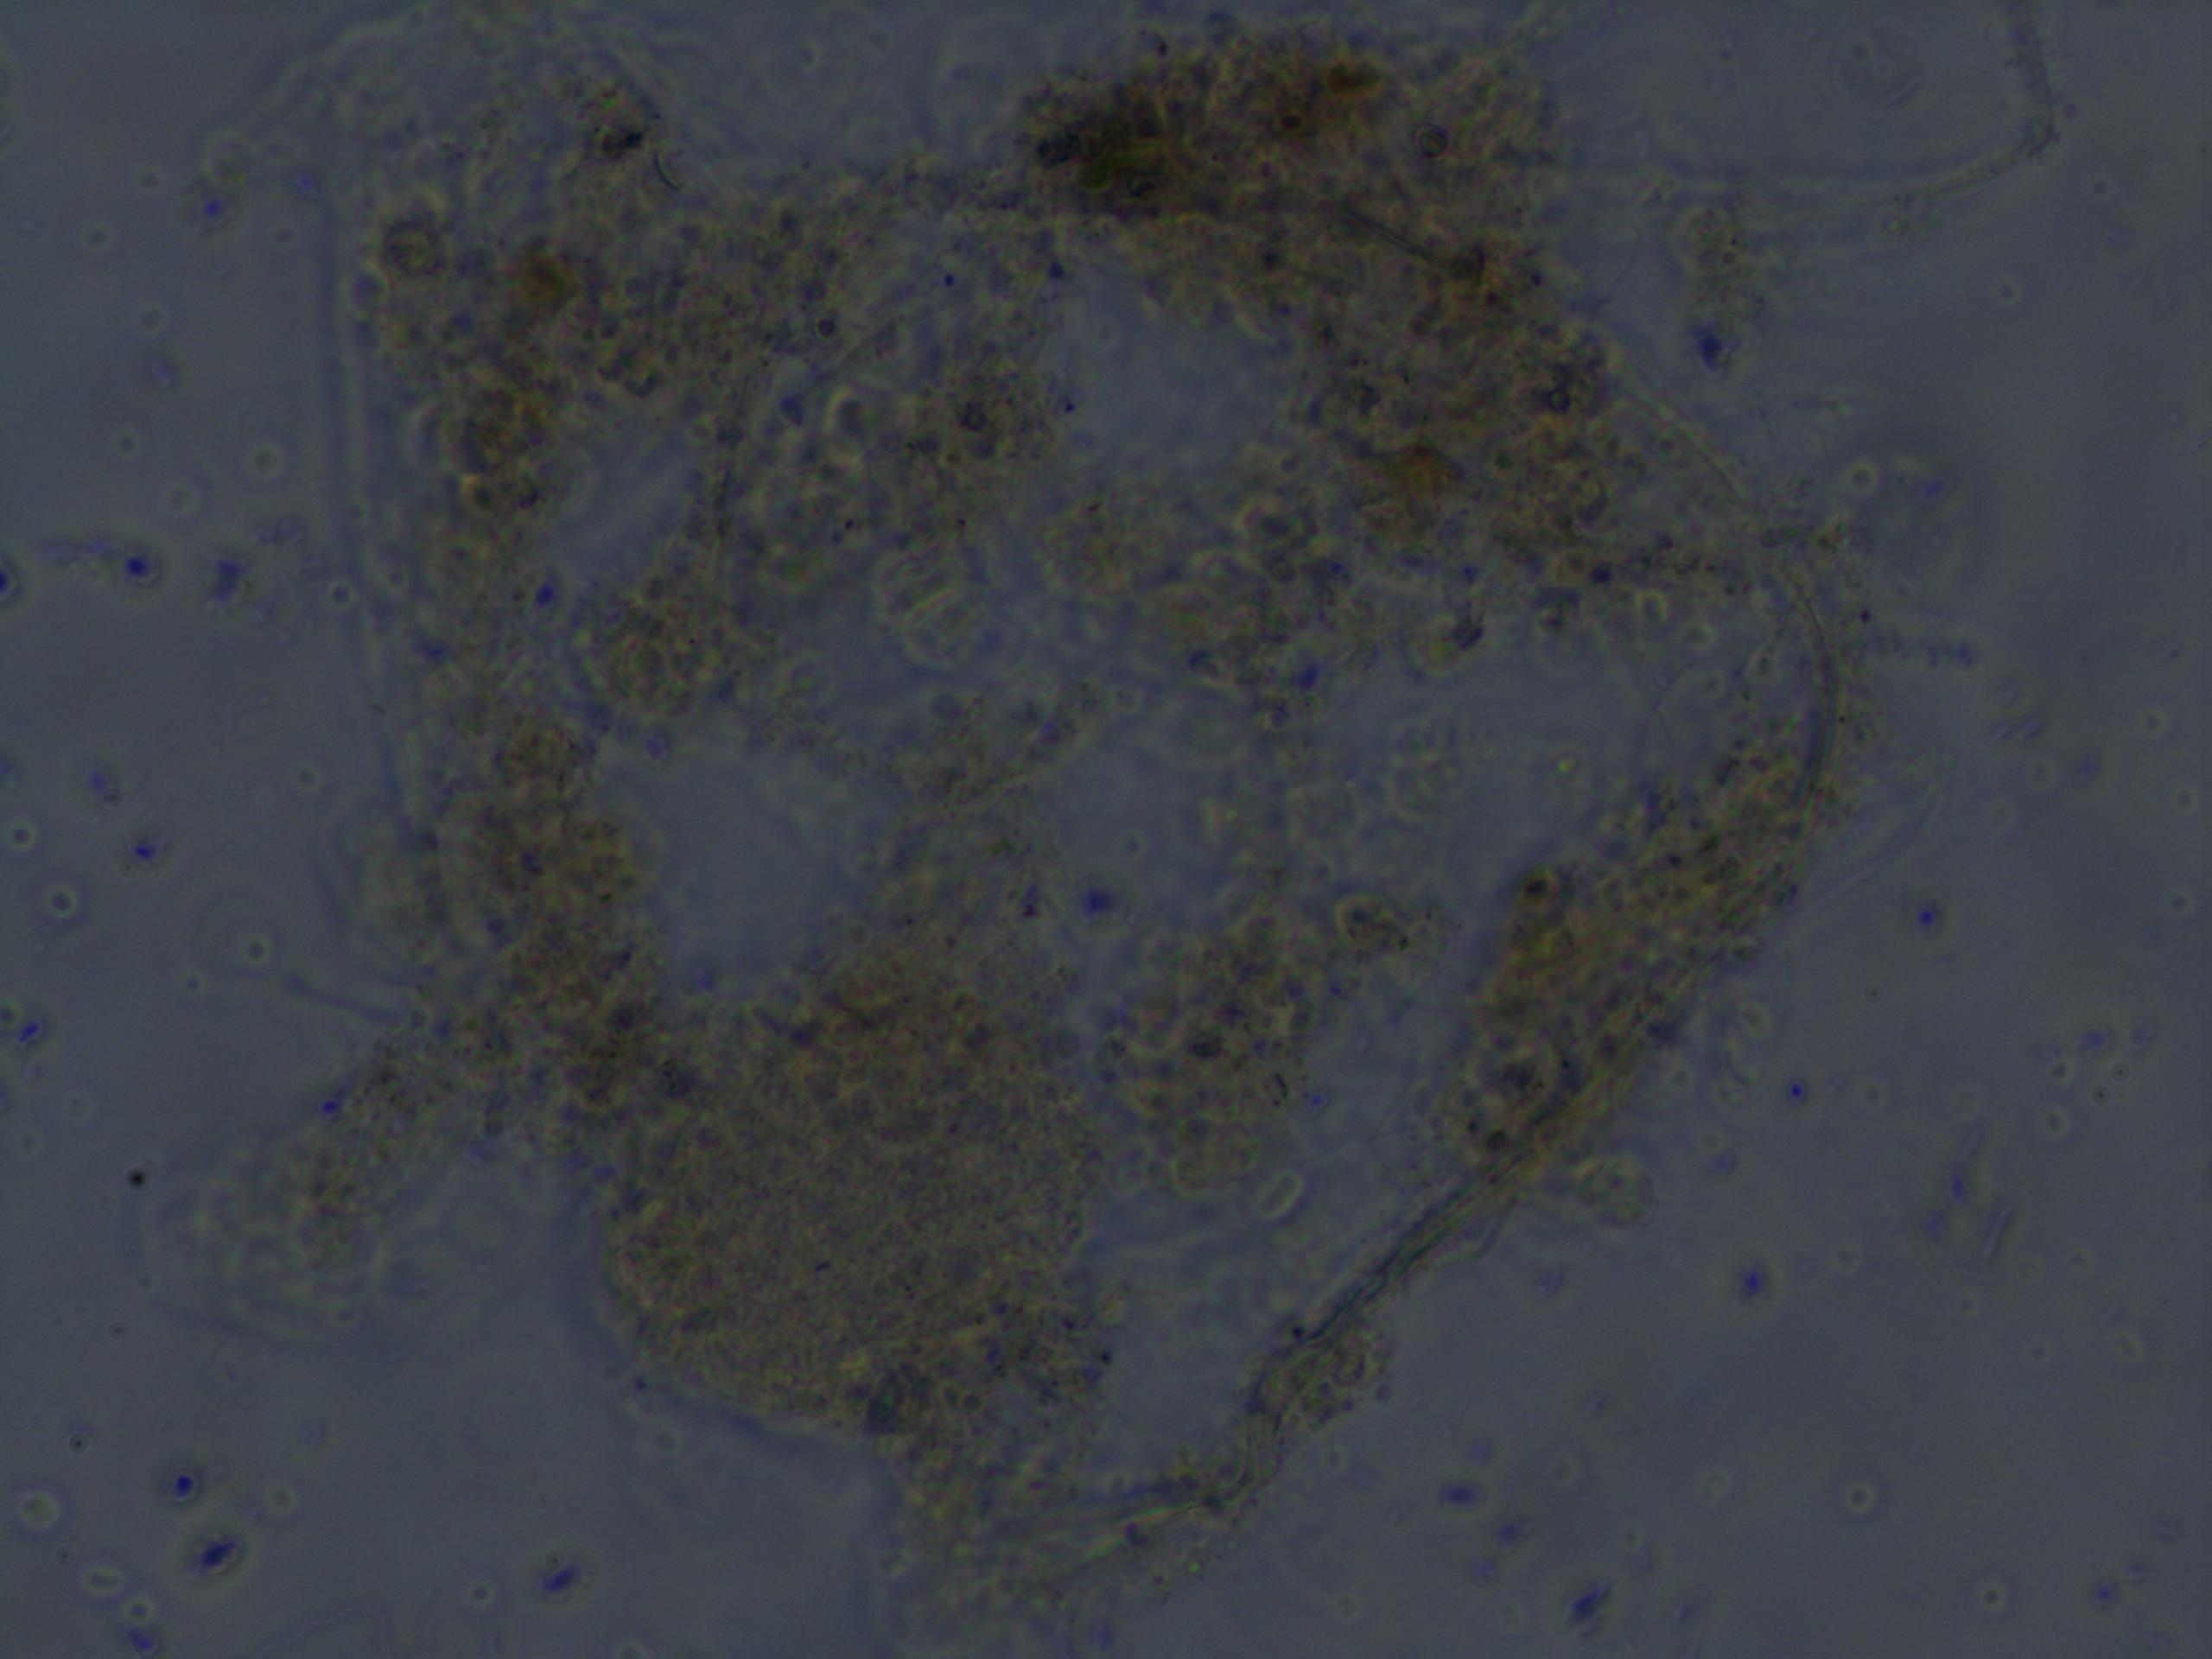open_floc: (287, 7, 2066, 1635)
